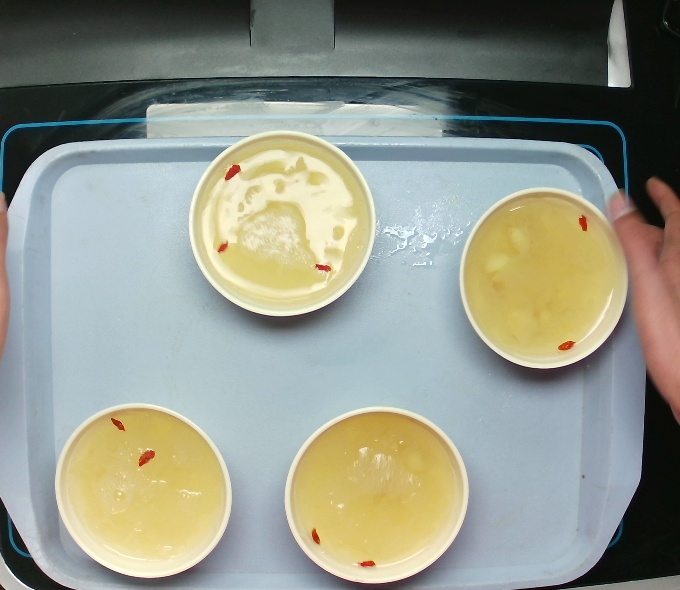wcq-YinErLianZiGeng: (196, 142, 368, 310), (58, 411, 226, 570), (294, 413, 462, 572), (463, 198, 631, 357)
